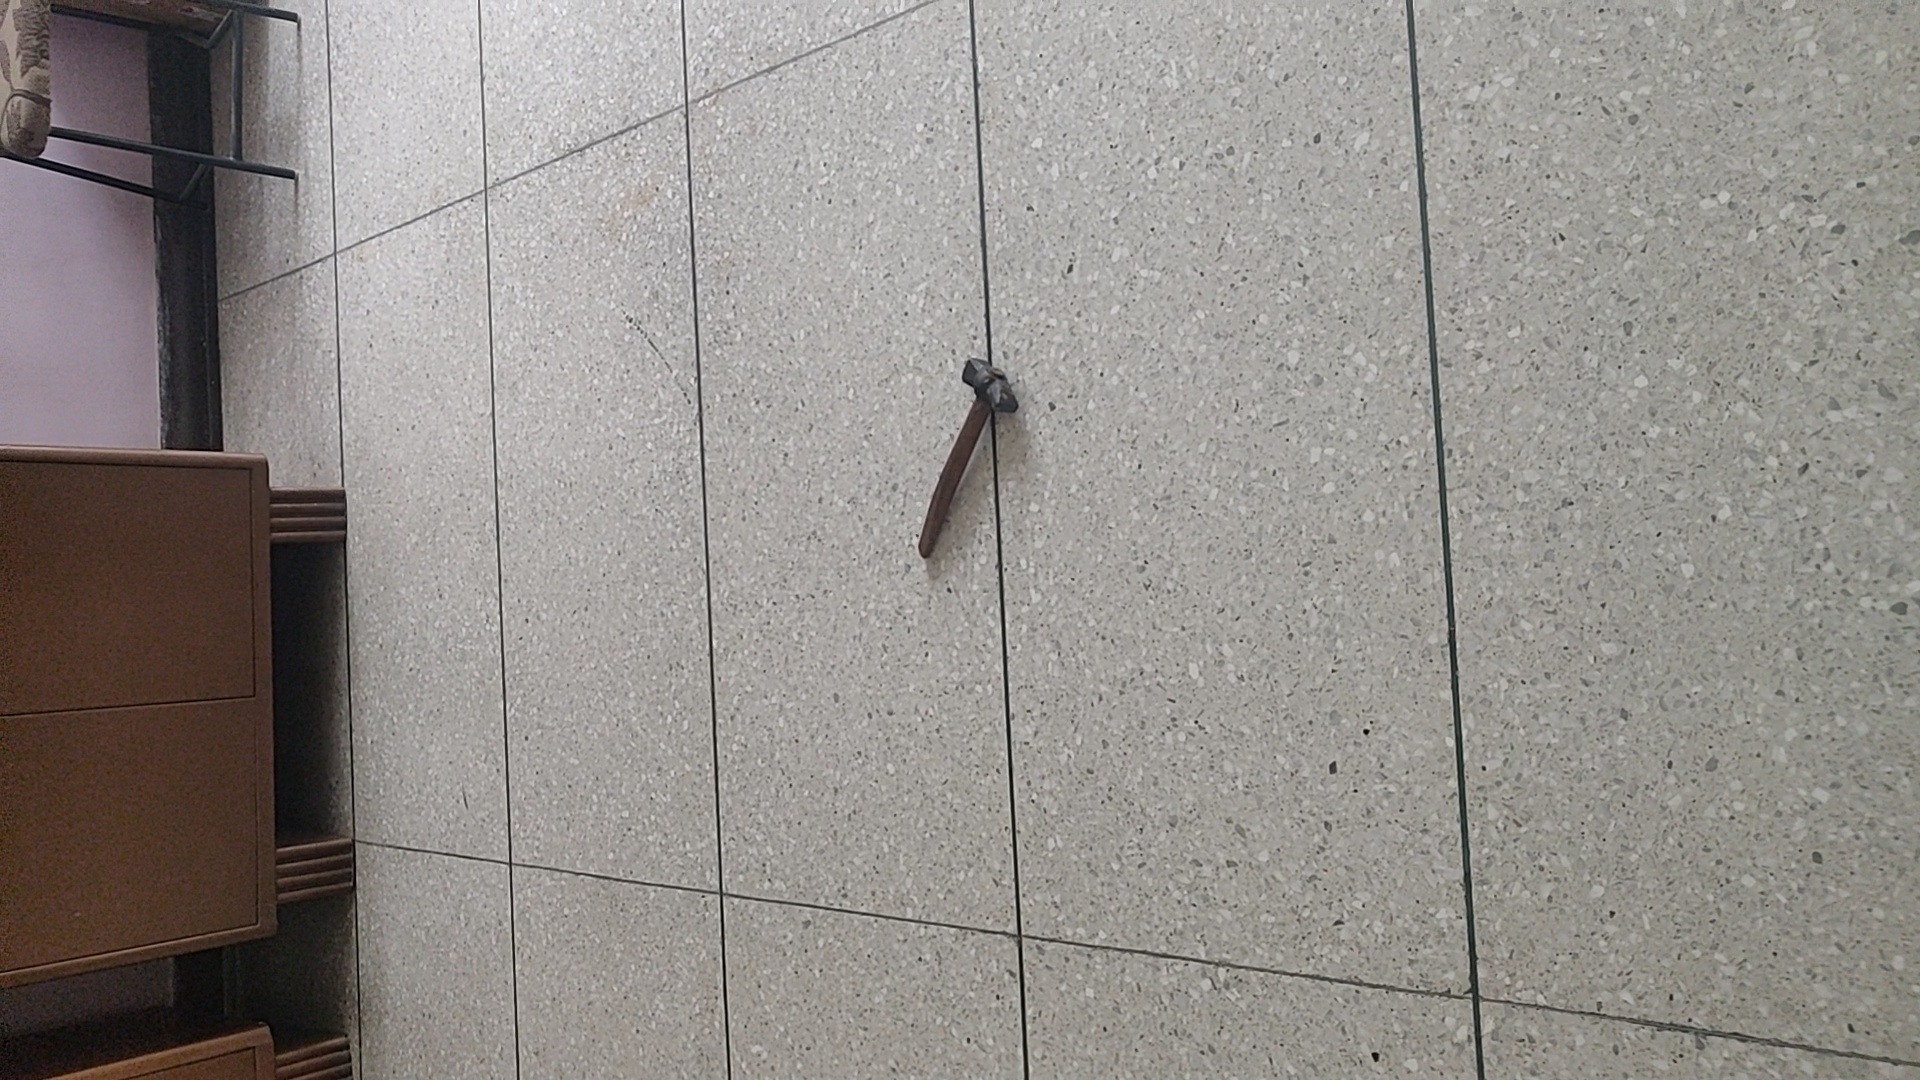hammer: (916, 355, 1018, 562)
